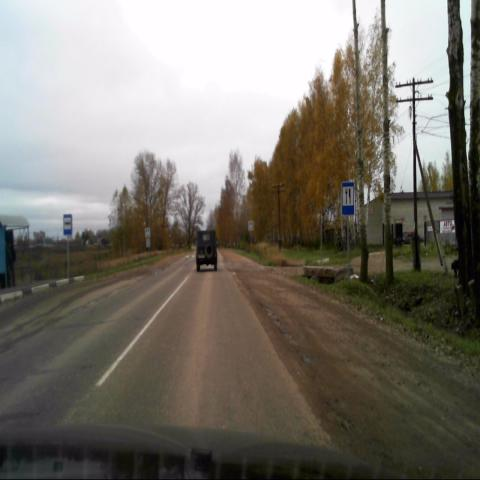7_7: (342, 181, 354, 215)
